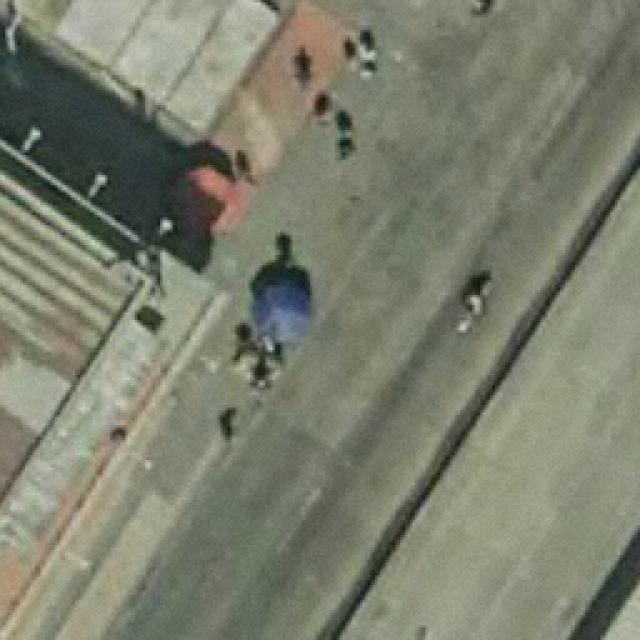vendedor_ambulante: (165, 160, 248, 244), (247, 279, 317, 350)
